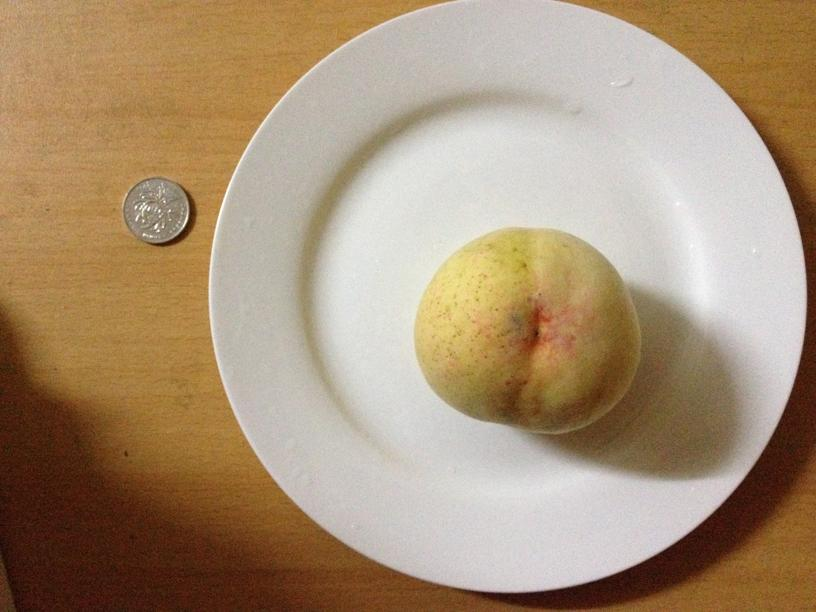coin: (117, 179, 193, 244)
peach: (410, 228, 640, 429)
